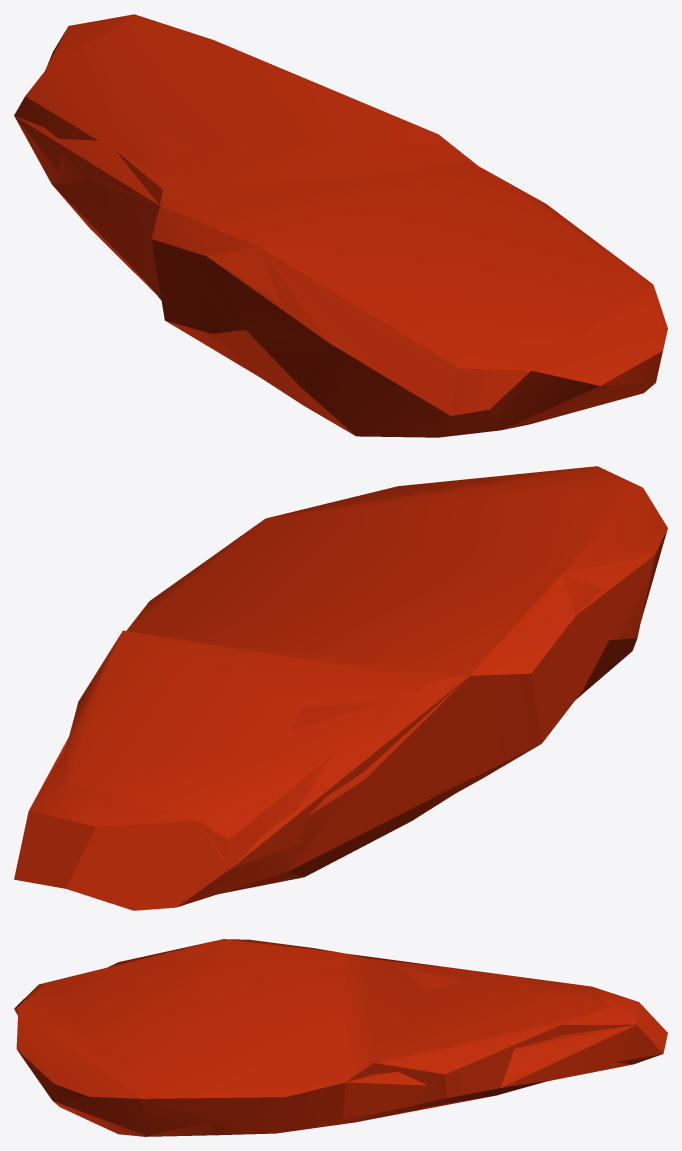
The model's file is SM_Sharp_Rock_04.fbx.
3 views of the same model, one above another, from view 1: azimuth 30°, elevation 25°; view 2: azimuth 150°, elevation 25°; view 3: azimuth 270°, elevation 25° (orthographic). The views are drawn at different scales.
Visible parts, largest first — view 1: SM_Sharp_Rock_04, SM_Sharp_Rock_04_col; view 2: SM_Sharp_Rock_04, SM_Sharp_Rock_04_col; view 3: SM_Sharp_Rock_04, SM_Sharp_Rock_04_col.
Part boxes in pixels (<box>): SM_Sharp_Rock_04: <box>14,14,667,437</box>; SM_Sharp_Rock_04_col: <box>14,27,652,430</box>; SM_Sharp_Rock_04: <box>14,466,667,910</box>; SM_Sharp_Rock_04_col: <box>30,489,663,907</box>; SM_Sharp_Rock_04: <box>14,939,667,1136</box>; SM_Sharp_Rock_04_col: <box>14,939,636,1130</box>.
Bounding box in the file's own units: 194 × 79.58 × 438.
